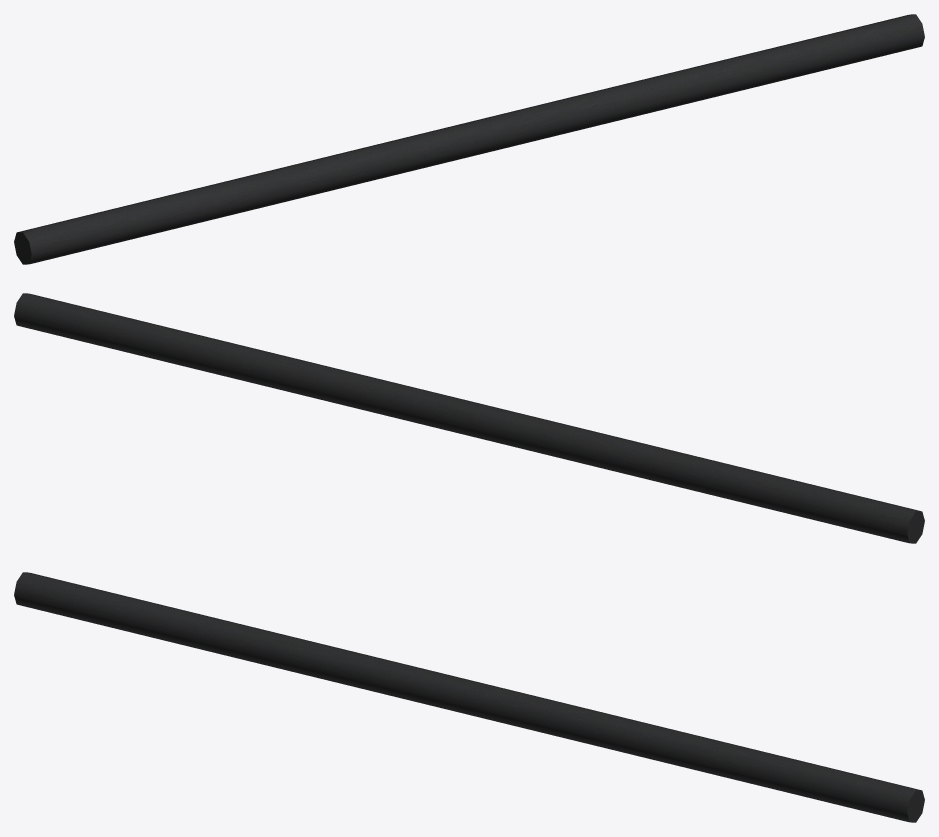
Rendered from Cover_Pin.dae.
The picture shows the model from 3 angles, top to bottom: view 1: azimuth 30°, elevation 25°; view 2: azimuth 150°, elevation 25°; view 3: azimuth 330°, elevation 25°; orthographic projection.
Parts seen in each view (by area): view 1: Cover_Pin; view 2: Cover_Pin; view 3: Cover_Pin.
Boxes of the visible parts, x1,y1,x2,y2 form: Cover_Pin: (14,14,924,264); Cover_Pin: (14,293,924,543); Cover_Pin: (14,572,924,822).
Size of the model in its own units: 0.0959 by 0.00331 by 0.00331.
1 material, 1 textured.
